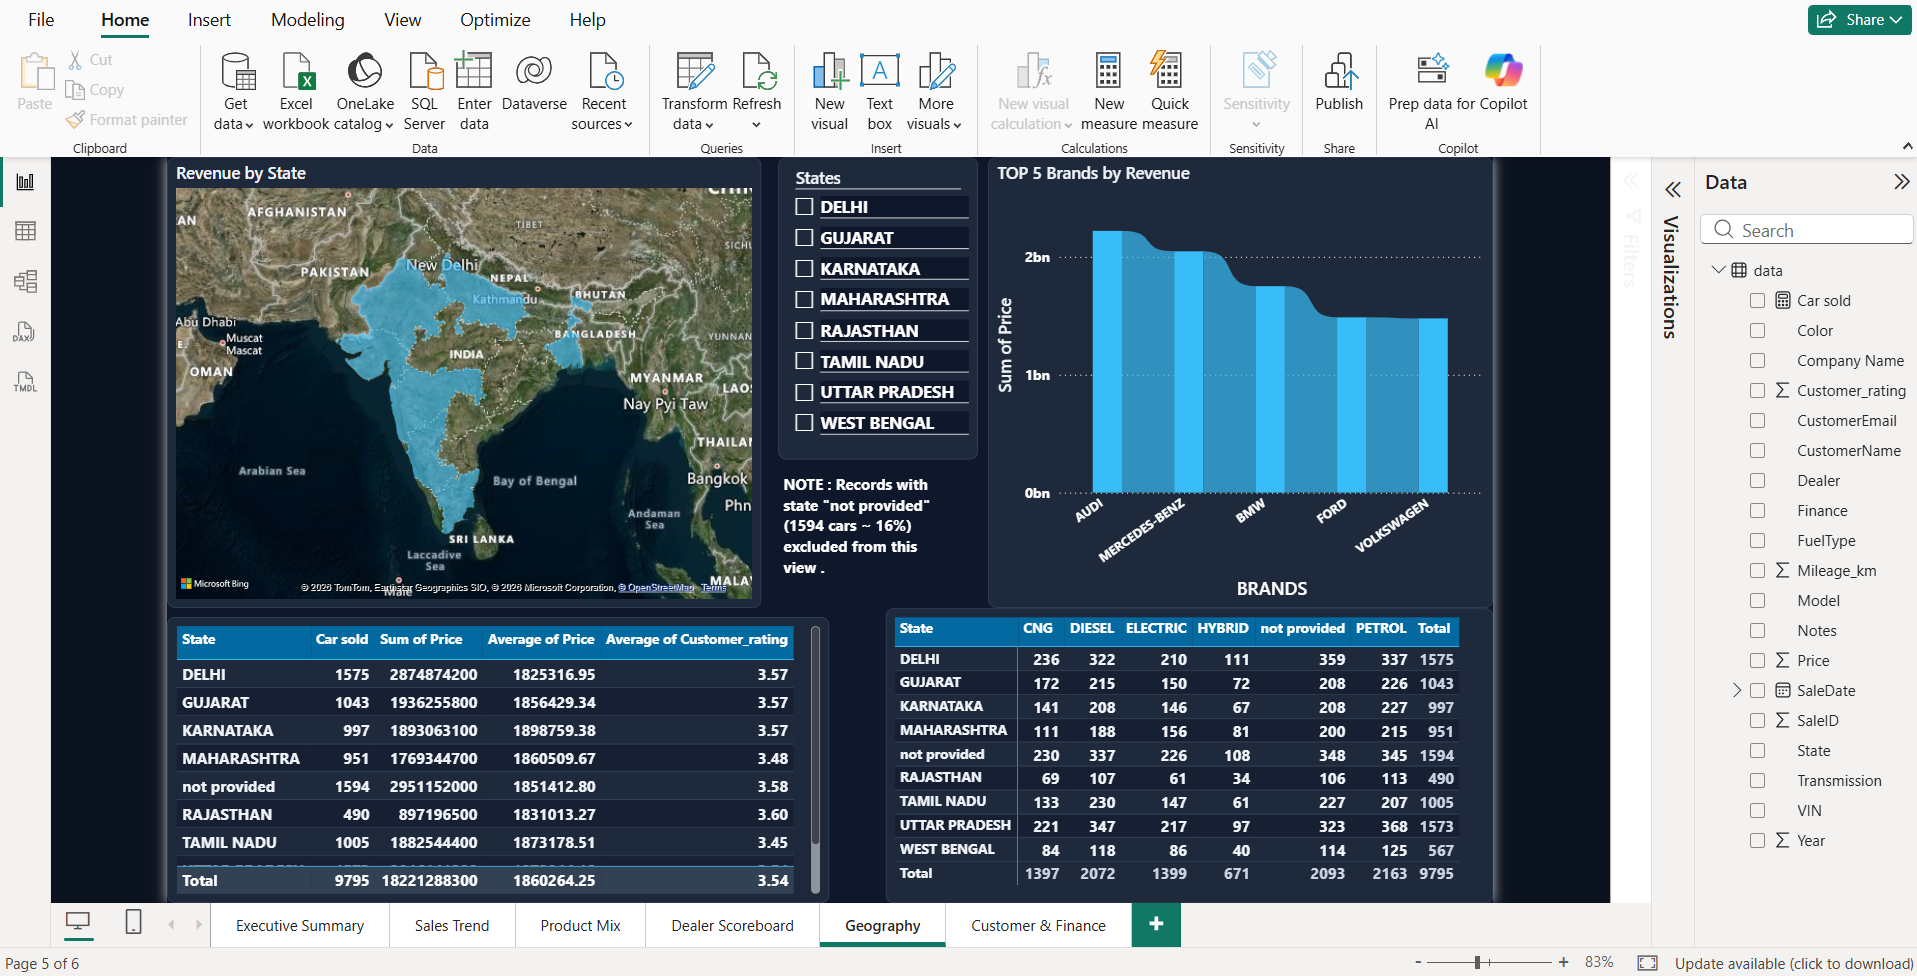

This screenshot's page, from the dashboard's own definition file:
{"tool":"powerbi","page":{"name":"Geography ","canvas":[1280,720],"ordinal":4},"visuals":[{"type":"filledMap","title":"Revenue by State","fields":{"Category":["data.State"]},"box":[0,0,573.5,435.3],"z":0},{"type":"ribbonChart","title":"TOP 5 Brands by Revenue","fields":{"Category":["data.Company Name"],"Y":["Sum(data.Price)"]},"box":[792.6,0,487.4,435.5],"z":1000},{"type":"slicer","fields":{"Values":["data.State"]},"box":[589.9,0,193,292],"z":2000},{"type":"pivotTable","fields":{"Rows":["data.State"],"Values":["data.Car sold"],"Columns":["data.FuelType"]},"box":[693.7,435.5,586.3,284.7],"z":3000},{"type":"tableEx","fields":{"Values":["data.State","data.Car sold","Sum(data.Price)","Avg(data.Price)","Avg(data.Customer_rating)"]},"box":[0,444,639.4,276.3],"z":4000},{"type":"textbox","box":[589.9,300.4,171.3,119.4],"z":6000}]}

Visuals, with their boxes on the page's 1280x720 design canvas (x1, y1, x2, y2). These are canvas units, not pixel positions in the 1917x976 screenshot, which may show the page scaled, cropped or inside an application window:
"Revenue by State" filledMap: box=[0, 0, 574, 435]
"TOP 5 Brands by Revenue" ribbonChart: box=[793, 0, 1280, 436]
slicer - data.State: box=[590, 0, 783, 292]
pivotTable - data.State x data.Car sold: box=[694, 436, 1280, 720]
tableEx - data.State x data.Car sold: box=[0, 444, 639, 720]
textbox: box=[590, 300, 761, 420]
